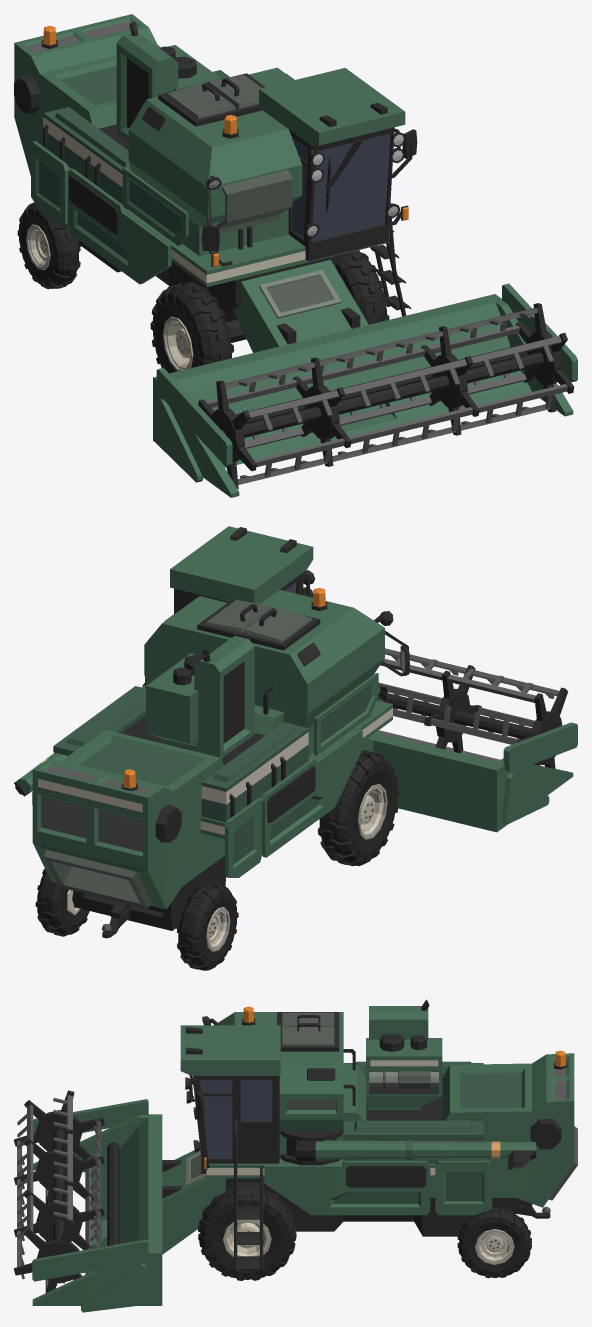
File: Harvestor.fbx
3 renders of one model, top to bottom at view 1: azimuth 30°, elevation 25°; view 2: azimuth 150°, elevation 25°; view 3: azimuth 270°, elevation 25°, orthographic. The views are drawn at different scales.
Parts seen in each view (by area): view 1: Harvestor; view 2: Harvestor; view 3: Harvestor.
Boxes of the visible parts, x1,y1,x2,y2 form: Harvestor: (14,14,577,497); Harvestor: (14,526,577,970); Harvestor: (14,999,577,1312).
Size of the model in its own units: 502 by 386 by 839.
